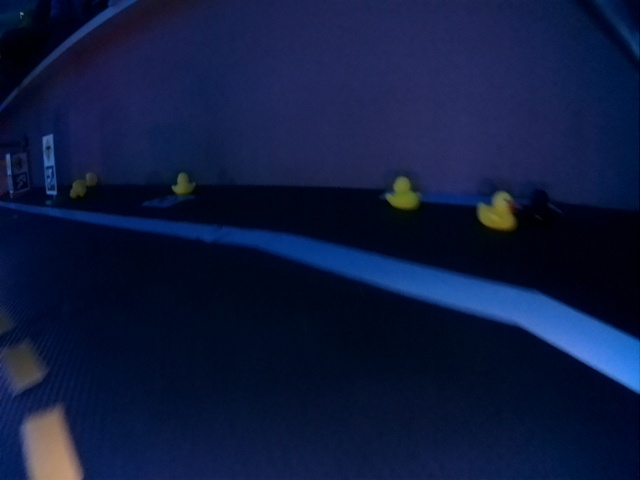Duckie: (476, 193, 516, 231), (387, 179, 422, 209), (172, 172, 197, 195), (70, 180, 86, 194), (86, 173, 98, 187)
Intersection sign: (12, 154, 27, 170), (43, 139, 53, 162)
QR code: (142, 194, 189, 209), (14, 173, 29, 193), (46, 166, 55, 193)
